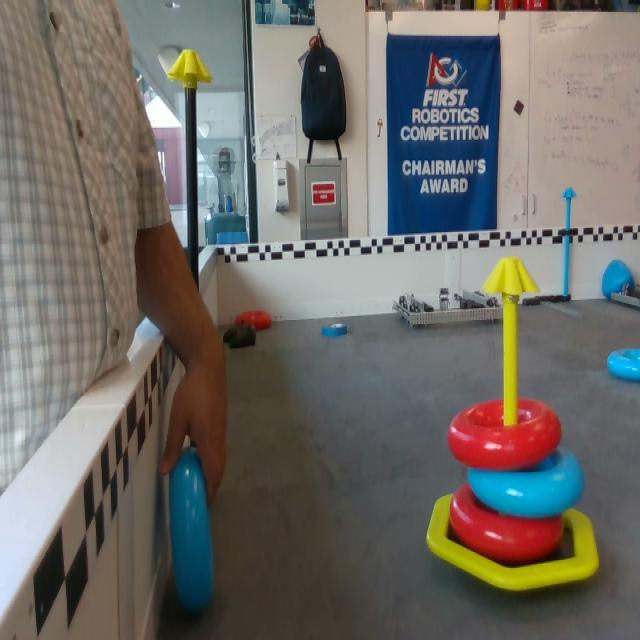Blue-Ring: (468, 447, 584, 519), (169, 448, 216, 616), (606, 348, 639, 380), (322, 322, 353, 336)
Mobile-Goal: (431, 252, 604, 592)
Red-Ring: (449, 484, 566, 561), (447, 398, 562, 470), (235, 310, 272, 331)
Yellow-Stake-Head: (481, 254, 542, 299), (169, 48, 214, 83)
zblue-Stake-Head: (562, 188, 578, 198)
